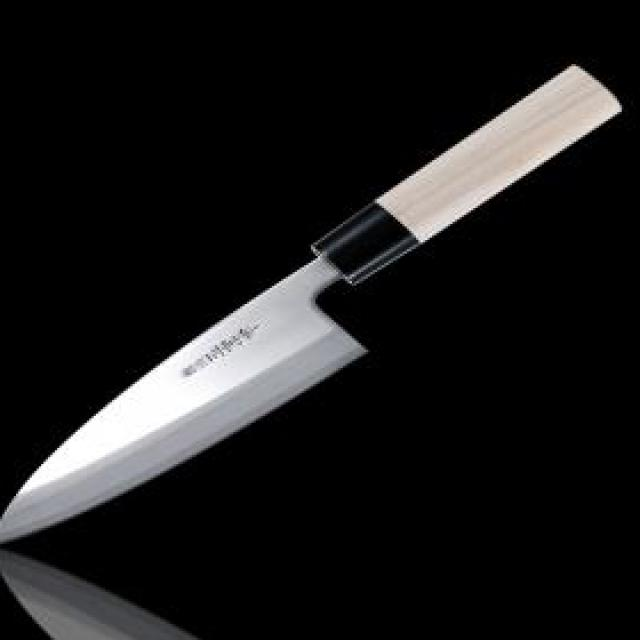knife: (0, 59, 624, 544)
